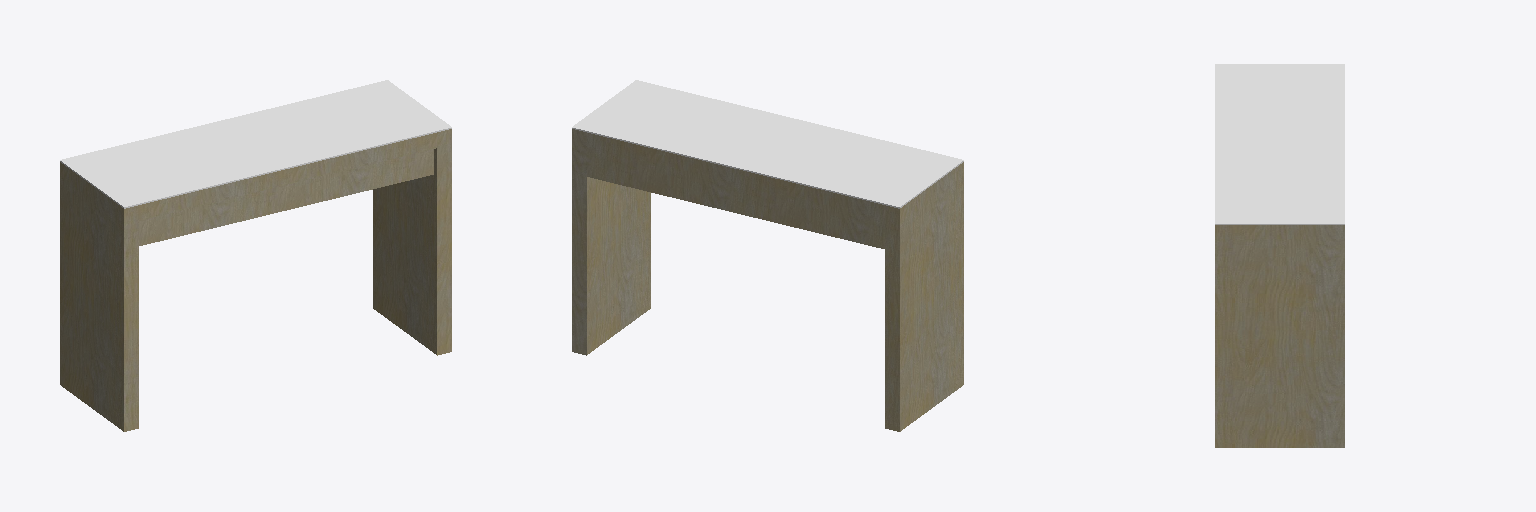
3 renders of one model, left to right at view 1: azimuth 30°, elevation 25°; view 2: azimuth 150°, elevation 25°; view 3: azimuth 270°, elevation 25°, orthographic.
Visible parts, largest first — view 1: Mesh2 Group1 Model, Mesh1 Group2 Group1 Model; view 2: Mesh2 Group1 Model, Mesh1 Group2 Group1 Model; view 3: Mesh2 Group1 Model, Mesh1 Group2 Group1 Model.
Part boxes in pixels (x1,y1,x2,y2): Mesh2 Group1 Model: (60, 129, 451, 431); Mesh1 Group2 Group1 Model: (60, 80, 451, 208); Mesh2 Group1 Model: (572, 129, 963, 431); Mesh1 Group2 Group1 Model: (572, 80, 963, 208); Mesh2 Group1 Model: (1215, 225, 1344, 447); Mesh1 Group2 Group1 Model: (1215, 64, 1344, 224).
Bounding box in the file's own units: 47.24 × 30.91 × 16.14.
Materials: 2 (1 with a texture image).